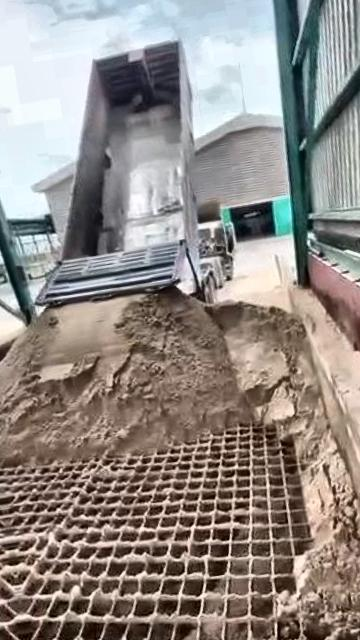sand: (0, 289, 360, 638)
